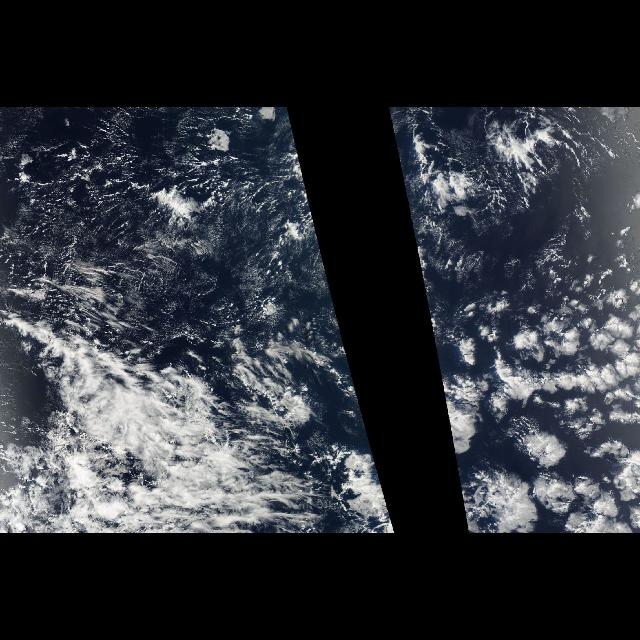Fish: (3, 289, 237, 473)
Flower: (410, 221, 640, 533), (312, 222, 394, 530)
Gravel: (3, 123, 337, 315)
Sugar: (182, 114, 312, 334)
